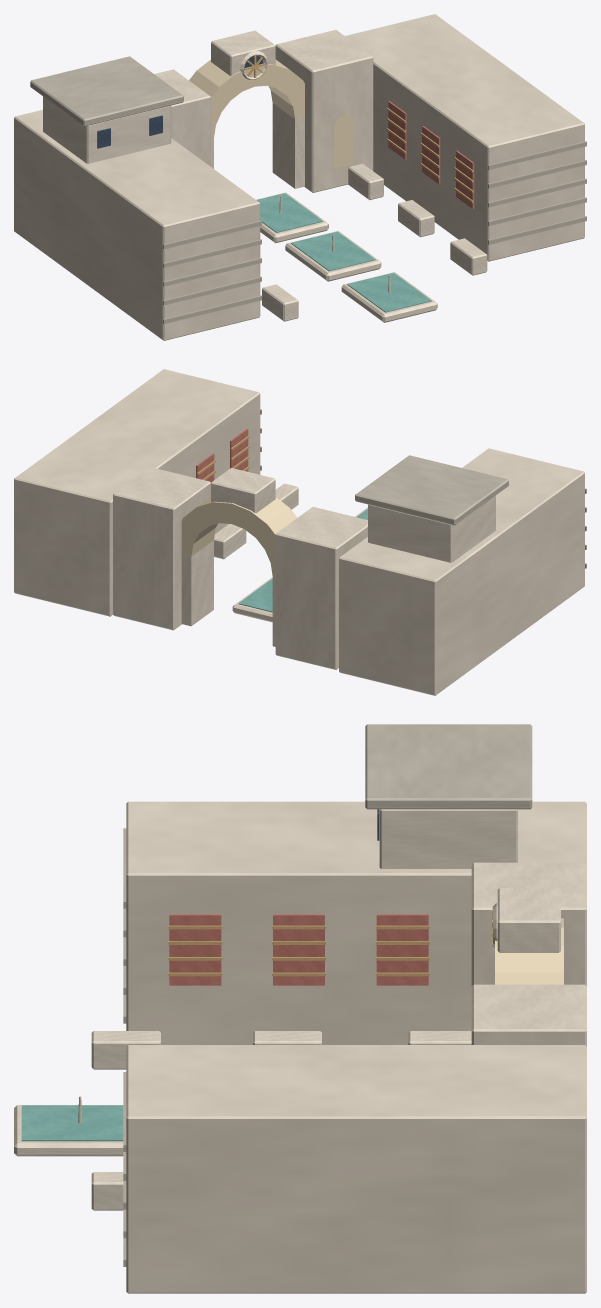
The model's file is auc-new-cairo.glb.
3 renders of one model, top to bottom at view 1: azimuth 30°, elevation 25°; view 2: azimuth 150°, elevation 25°; view 3: azimuth 270°, elevation 25°, orthographic. The views are drawn at different scales.
Parts seen in each view (by area): view 1: auc-new-cairo; view 2: auc-new-cairo; view 3: auc-new-cairo.
Boxes of the visible parts, <box> form: auc-new-cairo: <box>14,14,586,340</box>; auc-new-cairo: <box>14,369,586,695</box>; auc-new-cairo: <box>14,724,586,1293</box>.
Bounding box in the file's own units: 13.06 × 4.87 × 9.95.
1 material, 1 textured.
